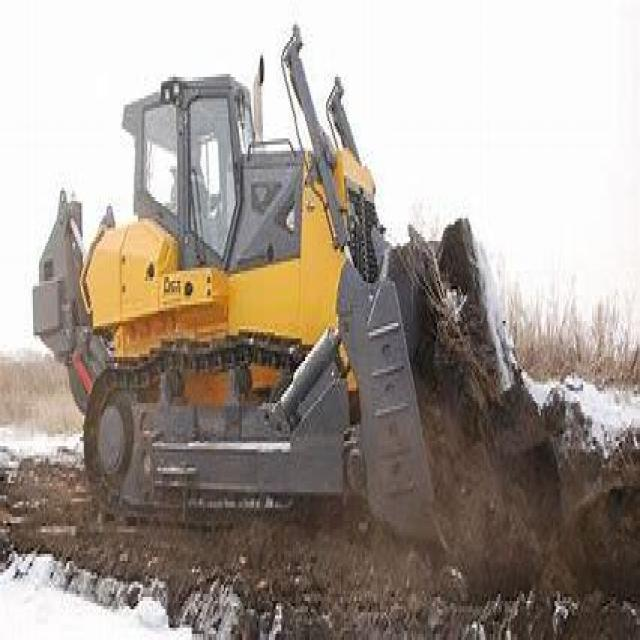Bulldozer: (33, 15, 563, 600)
